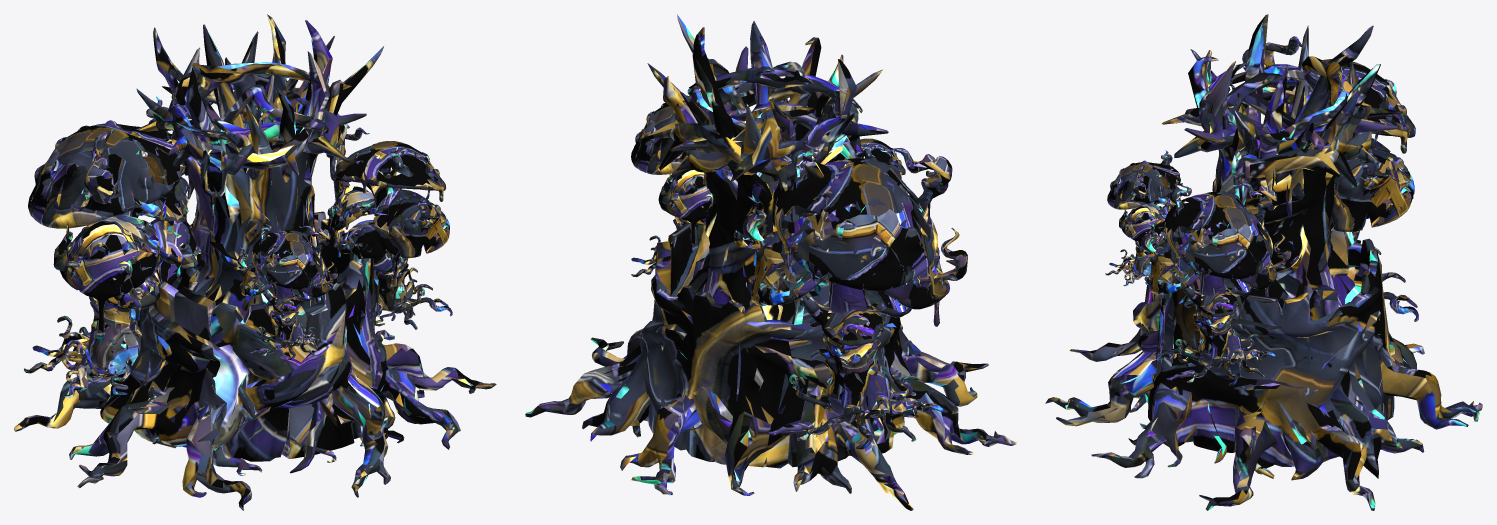
File: mycelialnode_kitbash_sporecloud_sapling_v01_prepared.fbx
The picture shows the model from 3 angles, left to right: view 1: azimuth 30°, elevation 25°; view 2: azimuth 150°, elevation 25°; view 3: azimuth 270°, elevation 25°; orthographic projection. The views are drawn at different scales.
Parts seen in each view (by area): view 1: LTW_MycelialNode_Kitbash; view 2: LTW_MycelialNode_Kitbash; view 3: LTW_MycelialNode_Kitbash.
Part boxes in pixels (x1,y1,x2,y2): LTW_MycelialNode_Kitbash: (14,14,496,510); LTW_MycelialNode_Kitbash: (525,14,1016,510); LTW_MycelialNode_Kitbash: (1045,14,1482,510).
Size of the model in its own units: 143 by 125 by 130.
